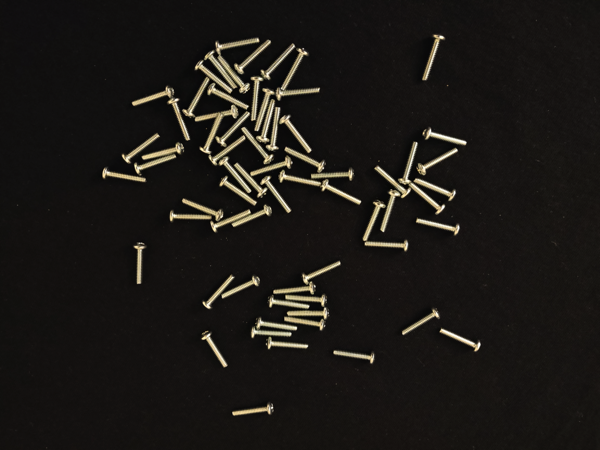longscrew: (261, 40, 298, 83), (234, 37, 274, 75), (216, 53, 252, 95), (194, 59, 236, 94), (278, 114, 314, 154), (280, 46, 311, 92), (373, 164, 413, 199), (204, 50, 239, 90), (198, 329, 230, 372), (234, 161, 270, 199), (216, 109, 252, 147), (408, 180, 447, 215), (421, 31, 447, 83), (182, 75, 212, 120), (415, 148, 461, 177), (218, 156, 253, 194), (240, 126, 275, 164), (259, 175, 293, 214), (208, 133, 248, 166), (121, 132, 162, 164), (401, 306, 443, 337), (217, 175, 259, 206), (206, 83, 252, 111), (202, 273, 235, 311), (166, 96, 192, 144), (438, 327, 483, 354), (180, 195, 225, 222), (199, 111, 226, 156), (361, 198, 388, 242), (301, 258, 344, 285), (283, 146, 327, 172), (220, 273, 262, 300), (318, 180, 363, 205), (133, 152, 179, 176), (230, 204, 274, 229), (132, 83, 176, 108), (210, 208, 252, 234), (414, 178, 457, 203), (254, 87, 277, 133), (421, 125, 469, 147), (250, 153, 294, 177), (398, 140, 420, 186), (256, 98, 278, 144), (380, 189, 402, 234), (277, 168, 324, 189), (215, 34, 261, 55), (414, 217, 462, 237), (275, 83, 323, 102), (231, 400, 276, 420), (141, 140, 186, 160), (194, 104, 240, 123), (100, 166, 149, 183), (265, 106, 283, 152), (331, 348, 376, 366), (266, 294, 313, 311), (253, 315, 299, 332), (132, 240, 148, 288), (273, 280, 318, 297), (263, 337, 313, 352), (248, 325, 295, 340), (168, 208, 215, 223), (249, 74, 264, 121), (283, 315, 327, 331), (284, 293, 330, 308), (364, 240, 412, 254), (287, 308, 332, 322), (311, 168, 356, 181)
